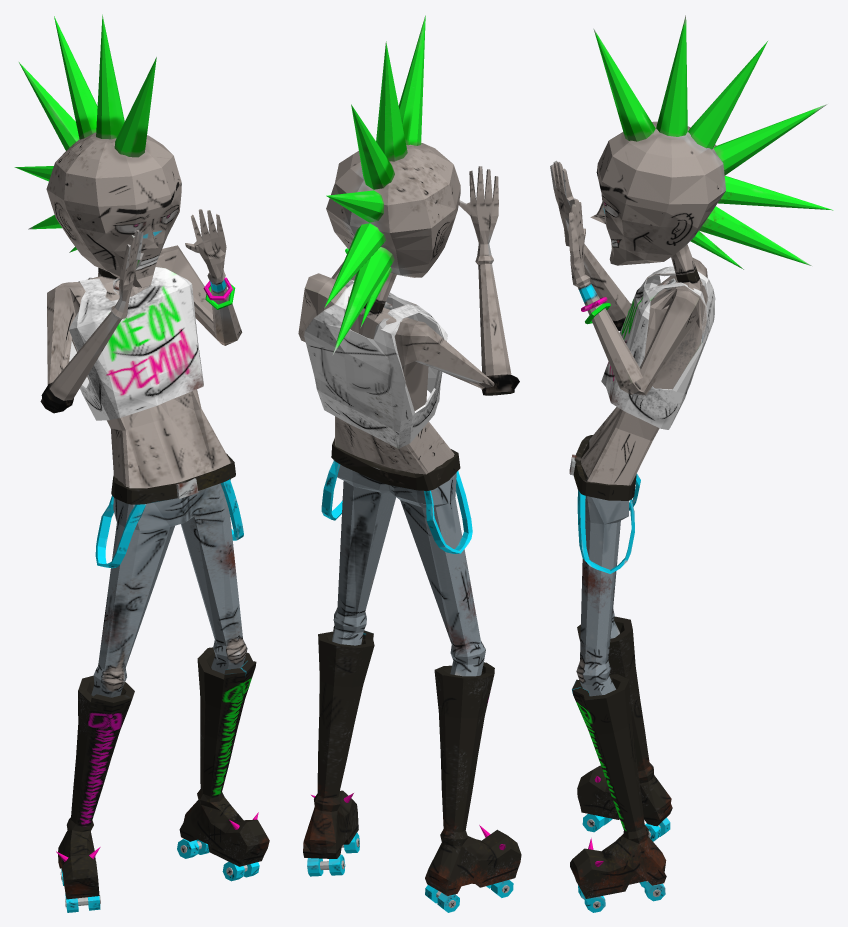
The model's file is punkAnimation_000021.obj.
3 views of the same model, side by side, from view 1: azimuth 30°, elevation 25°; view 2: azimuth 150°, elevation 25°; view 3: azimuth 270°, elevation 25° (orthographic). The views are drawn at different scales.
Visible parts, largest first — view 1: Cube.004_Cube.003; view 2: Cube.004_Cube.003; view 3: Cube.004_Cube.003.
Boxes of the visible parts, box(x1,y1,x2,y2) form: Cube.004_Cube.003: box(14, 14, 269, 912); Cube.004_Cube.003: box(298, 15, 521, 912); Cube.004_Cube.003: box(550, 15, 833, 912).
Size of the model in its own units: 1.92 by 7.49 by 2.27.
